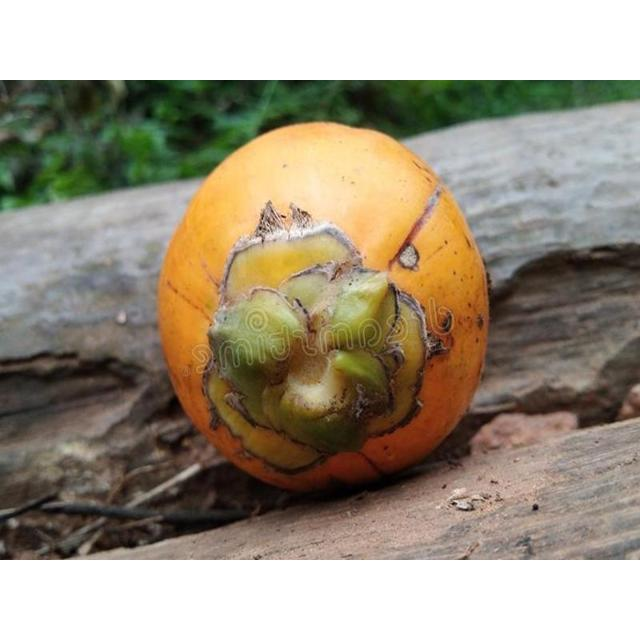good: (158, 122, 491, 497)
